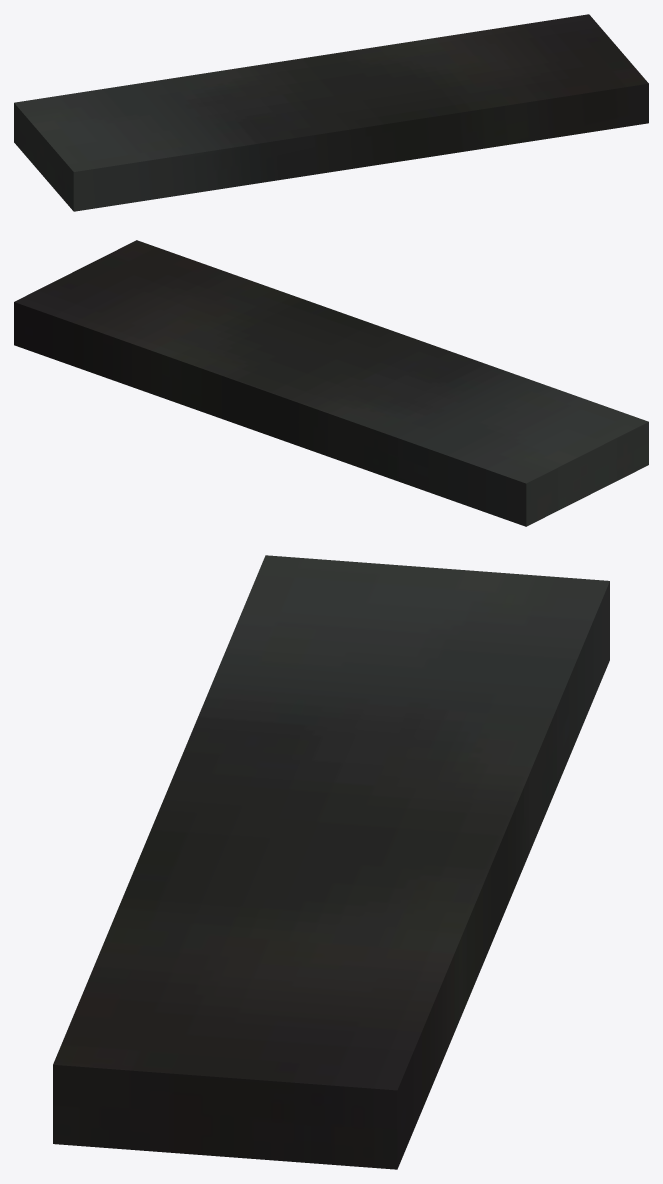
The model's file is frame__gauge_tick_5.glb.
3 views of the same model, one above another, from view 1: azimuth 30°, elevation 25°; view 2: azimuth 150°, elevation 25°; view 3: azimuth 270°, elevation 25° (orthographic). The views are drawn at different scales.
Parts seen in each view (by area): view 1: geometry_0; view 2: geometry_0; view 3: geometry_0.
Part boxes in pixels (box(x1,y1,x2,y2)): geometry_0: box(14, 14, 648, 211); geometry_0: box(14, 240, 648, 526); geometry_0: box(53, 555, 609, 1169).
Bounding box in the file's own units: 0.0145 × 0.001 × 0.00637.
Materials: 1 (1 with a texture image).
